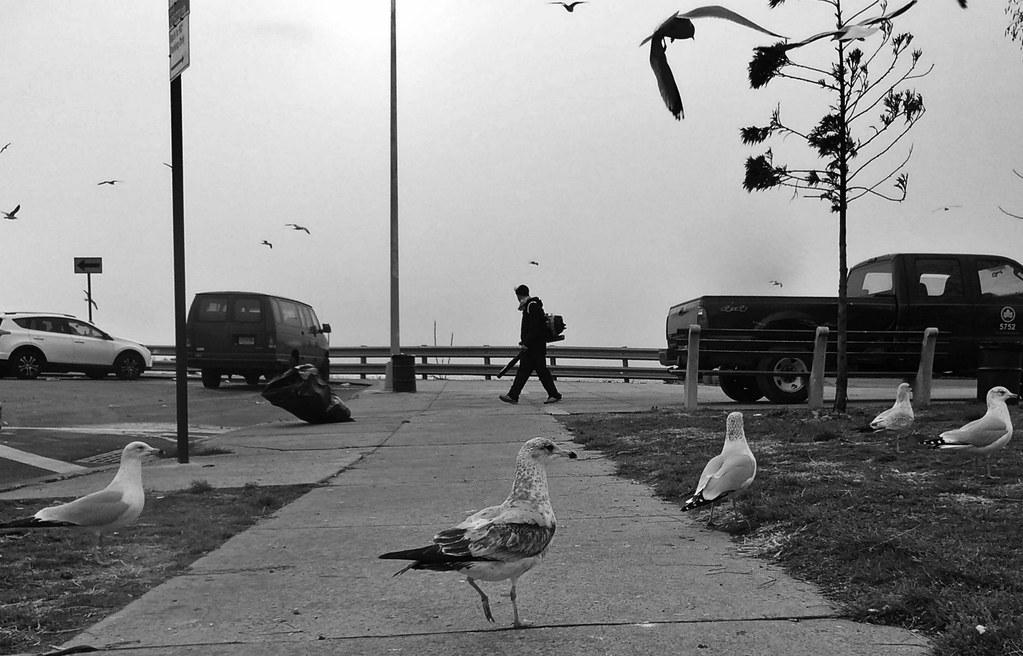car: (662, 246, 1023, 413), (178, 285, 342, 408), (1, 312, 153, 381)
